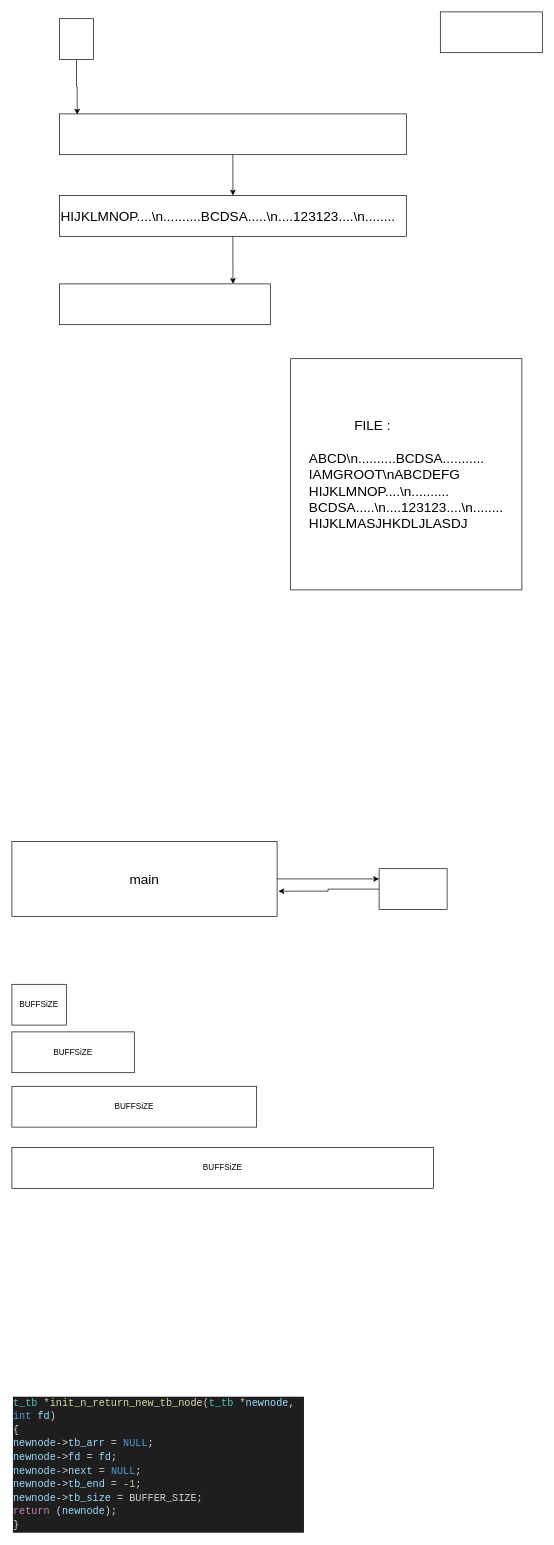
Image size: 554x1545. Some labels were removed from this diagram. The centre of each missing label's shape, as x and y in pixels:
"BCDSA...........IAMGROOT\nABCDEFG" belongs at (x=232, y=134).
"HIJKLMNOP....\n..........BCDSA....." belongs at (x=164, y=304).
"line(ABCD)" belongs at (x=412, y=889).
"tb_node->tb_arr" belongs at (x=491, y=32).
